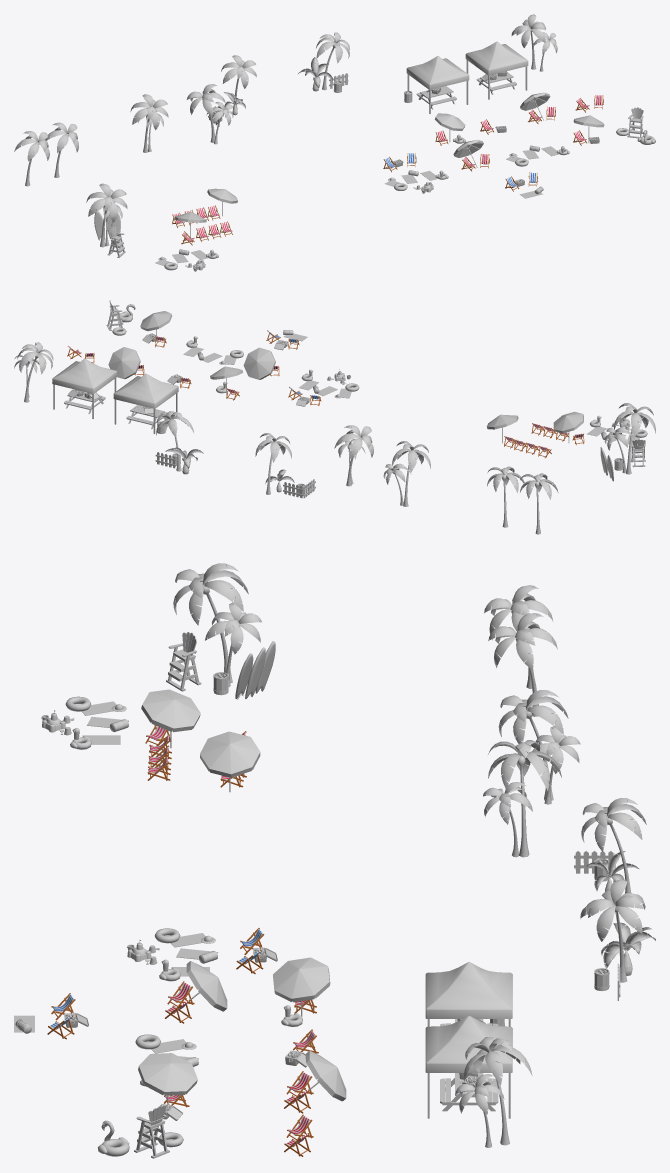
File: Asset_02_Beach_Map.fbx
3 renders of one model, top to bottom at view 1: azimuth 30°, elevation 25°; view 2: azimuth 150°, elevation 25°; view 3: azimuth 270°, elevation 25°, orthographic. The views are drawn at different scales.
Parts seen in each view (by area): view 1: A2_Square_Umbrella2, A2_Square_Umbrella1, A2_Tree1, A2_Tree6, A2_Tree4, A2_Tree3, A2_Tree5, A2_Tree7, A2_Tree2, A2_Tree9, A2_BigTable2, A2_BigTable (+2 smaller); view 2: A2_Square_Umbrella2, A2_Square_Umbrella1, A2_Tree1, A2_Tree3, A2_Tree4, A2_Tree6, A2_Tree5, A2_Umbrella5, A2_Umbrella3, A2_Tree7, A2_Tree2, A2_Tree9 (+5 smaller); view 3: A2_Square_Umbrella2, A2_Tree1, A2_Square_Umbrella1, A2_Tree6, A2_Tree4, A2_Tree3, A2_Tree5, A2_Umbrella1, A2_Umbrella2, A2_Umbrella4, A2_Umbrella, A2_Tree9 (+9 smaller).
Part boxes in pixels (x1,y1,x2,y2): A2_Square_Umbrella2: (406,56,469,113); A2_Square_Umbrella1: (465,41,528,99); A2_Tree1: (86,183,127,247); A2_Tree6: (297,32,349,91); A2_Tree4: (186,84,233,144); A2_Tree3: (130,94,168,152); A2_Tree5: (221,55,256,115); A2_Tree7: (511,14,545,69); A2_Tree2: (14,131,49,186); A2_Tree9: (45,122,78,177); A2_BigTable2: (476,71,516,94); A2_BigTable: (416,86,456,109); A2_Square_Umbrella2: (113,373,178,433); A2_Square_Umbrella1: (52,358,117,418); A2_Tree1: (604,403,655,474); A2_Tree3: (383,441,430,506); A2_Tree4: (334,425,373,486); A2_Tree6: (156,411,203,474); A2_Tree5: (255,433,294,494); A2_Umbrella5: (243,347,275,379); A2_Umbrella3: (108,347,140,379); A2_Tree7: (17,342,53,402); A2_Tree2: (520,473,558,534); A2_Tree9: (487,466,524,527); A2_Square_Umbrella2: (425,962,512,1026); A2_Tree1: (173,563,261,687); A2_Square_Umbrella1: (425,1016,512,1118); A2_Tree6: (580,879,655,982); A2_Tree4: (483,740,561,857); A2_Tree3: (498,690,580,804); A2_Tree5: (581,798,646,893); A2_Umbrella1: (200,731,260,792); A2_Umbrella2: (273,957,330,1016); A2_Umbrella4: (138,1053,197,1104); A2_Umbrella: (141,689,200,748); A2_Tree9: (488,613,557,716).
Size of the model in its own units: 432 by 49.97 by 237.
